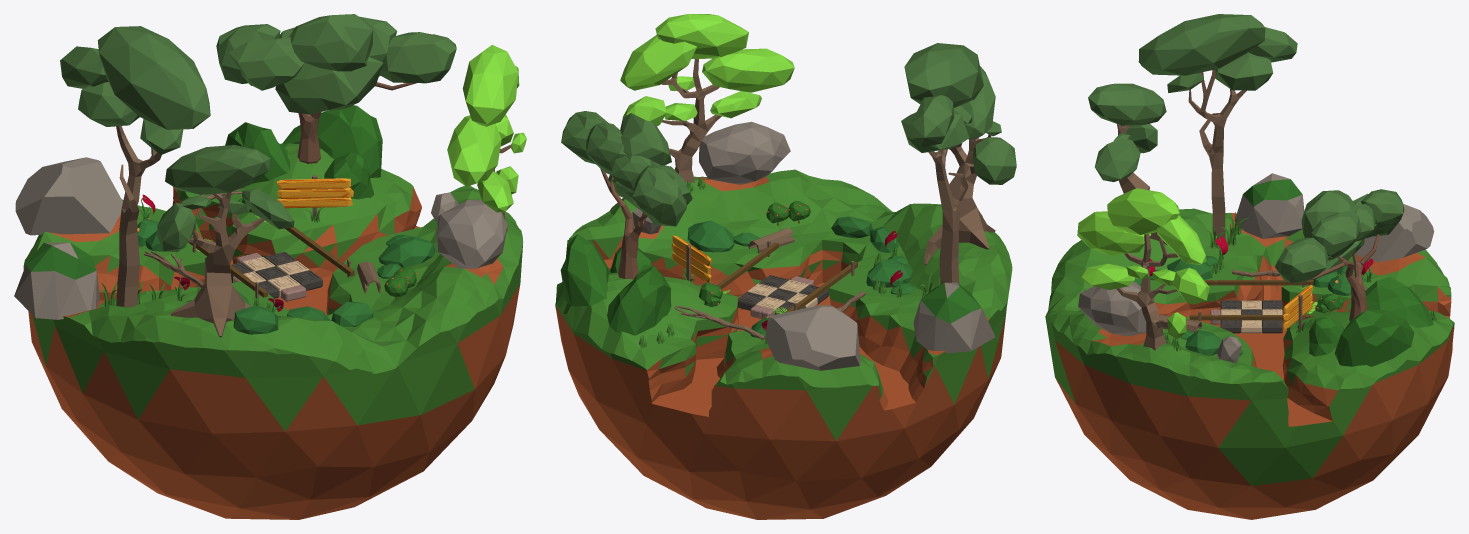
File: Isla4.fbx
3 views of the same model, side by side, from view 1: azimuth 30°, elevation 25°; view 2: azimuth 150°, elevation 25°; view 3: azimuth 270°, elevation 25° (orthographic). The views are drawn at different scales.
Visible parts, largest first — view 1: isla, Tree2.000, follaje1, follaje4, follaje1.001, Stone3.001, arbusto.001, roca1, tronco1.001, roca, tronco1, Bush1.000 (+7 smaller); view 2: isla, follaje4, Tree2.000, follaje1, arbusto.001, Stone3.001, roca, roca1, follaje1.001, tronco1.001, tronco1, tronco4 (+6 smaller); view 3: isla, follaje4, follaje1, Tree2.000, arbusto.001, follaje1.001, roca1, tronco1, roca, Stone3.001, tronco4, Bush1.000 (+6 smaller).
Boxes of the visible parts, x1,y1,x2,y2 form: isla: (23,143,523,519); Tree2.000: (216,14,456,163); follaje1: (60,26,210,155); follaje4: (447,45,526,212); follaje1.001: (157,145,294,252); Stone3.001: (15,157,122,235); arbusto.001: (225,105,382,199); roca1: (14,242,99,319); tronco1.001: (170,192,264,337); roca: (436,199,507,268); tronco1: (116,126,161,307); Bush1.000: (377,235,435,278); isla: (555,169,1012,519); follaje4: (620,14,794,126); Tree2.000: (561,111,692,279); follaje1: (901,43,983,152); arbusto.001: (560,234,671,335); Stone3.001: (765,305,860,370); roca: (699,121,790,184); roca1: (913,282,995,353); follaje1.001: (962,66,1016,184); tronco1.001: (924,134,995,264); tronco1: (928,149,968,284); tronco4: (661,59,721,182); isla: (1045,208,1454,519); follaje4: (1077,188,1209,338); follaje1: (1138,14,1297,92); Tree2.000: (1275,189,1404,321); arbusto.001: (1309,277,1433,366); follaje1.001: (1088,83,1166,181); roca1: (1234,173,1304,238); tronco1: (1188,69,1246,238); roca: (1078,282,1146,335); Stone3.001: (1356,204,1434,261); tronco4: (1116,234,1178,350); Bush1.000: (1180,330,1242,356).
Bounding box in the file's own units: 1045 × 1134 × 990.
